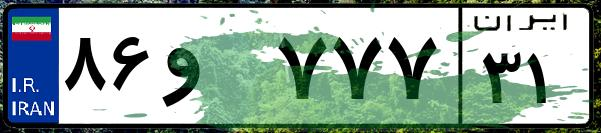1: (525, 38, 570, 115)
3: (475, 38, 525, 113)
6: (110, 28, 158, 98)
7: (270, 28, 330, 110), (385, 28, 445, 110), (330, 28, 385, 110)
8: (57, 26, 110, 100)
و: (158, 20, 270, 120)
